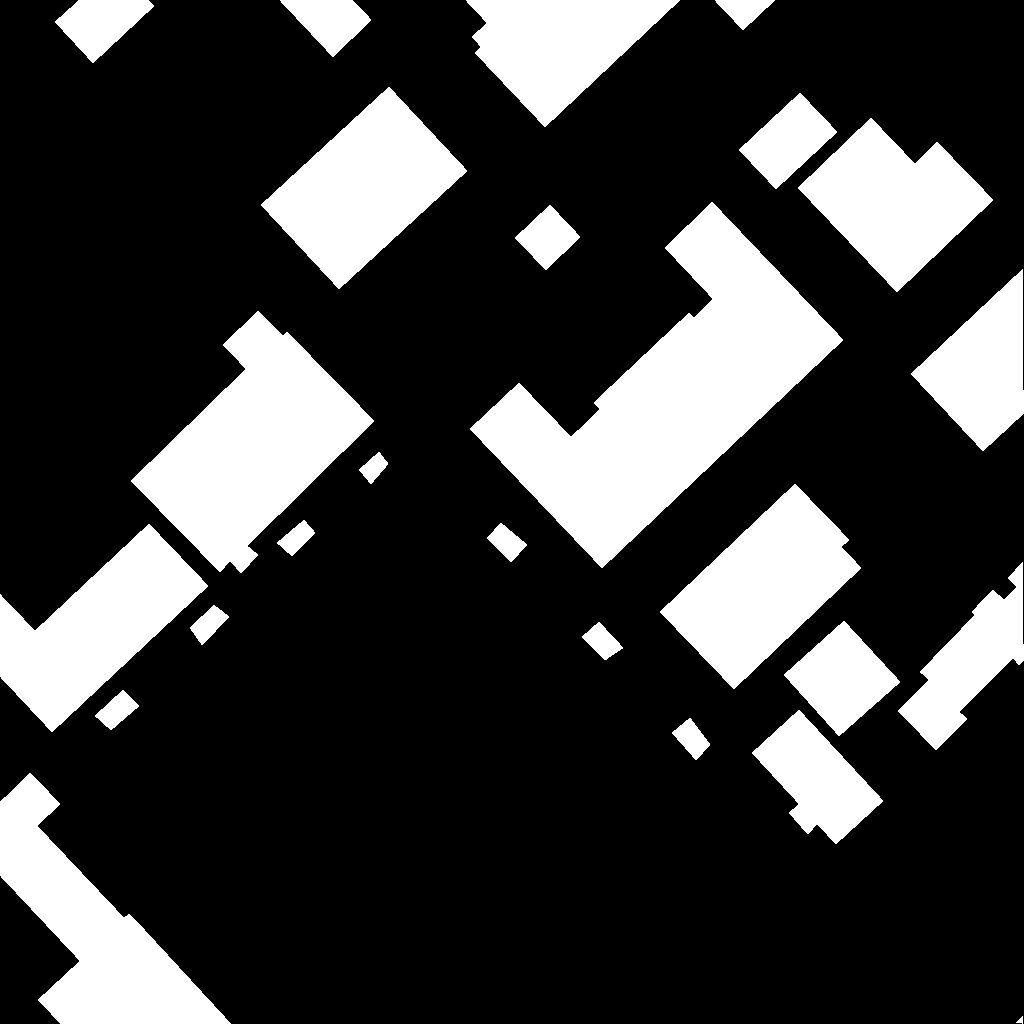building: (470, 202, 844, 569), (131, 311, 375, 574), (0, 773, 232, 1024), (0, 524, 209, 733), (261, 87, 468, 290), (660, 484, 862, 690), (465, 0, 776, 128), (798, 118, 994, 293), (898, 562, 1024, 751), (911, 269, 1024, 452), (752, 710, 884, 845), (784, 621, 901, 737), (739, 93, 838, 190), (55, 0, 155, 64), (279, 0, 372, 58), (515, 205, 581, 271), (95, 690, 140, 731), (672, 718, 711, 761), (190, 605, 230, 646), (487, 523, 528, 563), (582, 622, 624, 661), (277, 520, 316, 557), (359, 452, 389, 485), (1016, 1016, 1024, 1024)
